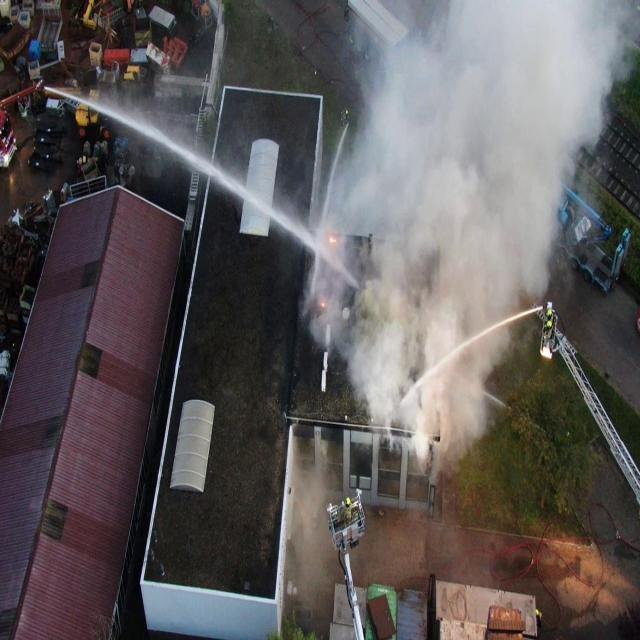Fire: (319, 302, 326, 308), (329, 237, 336, 243)
Smoke: (297, 0, 639, 485), (286, 440, 337, 618)
